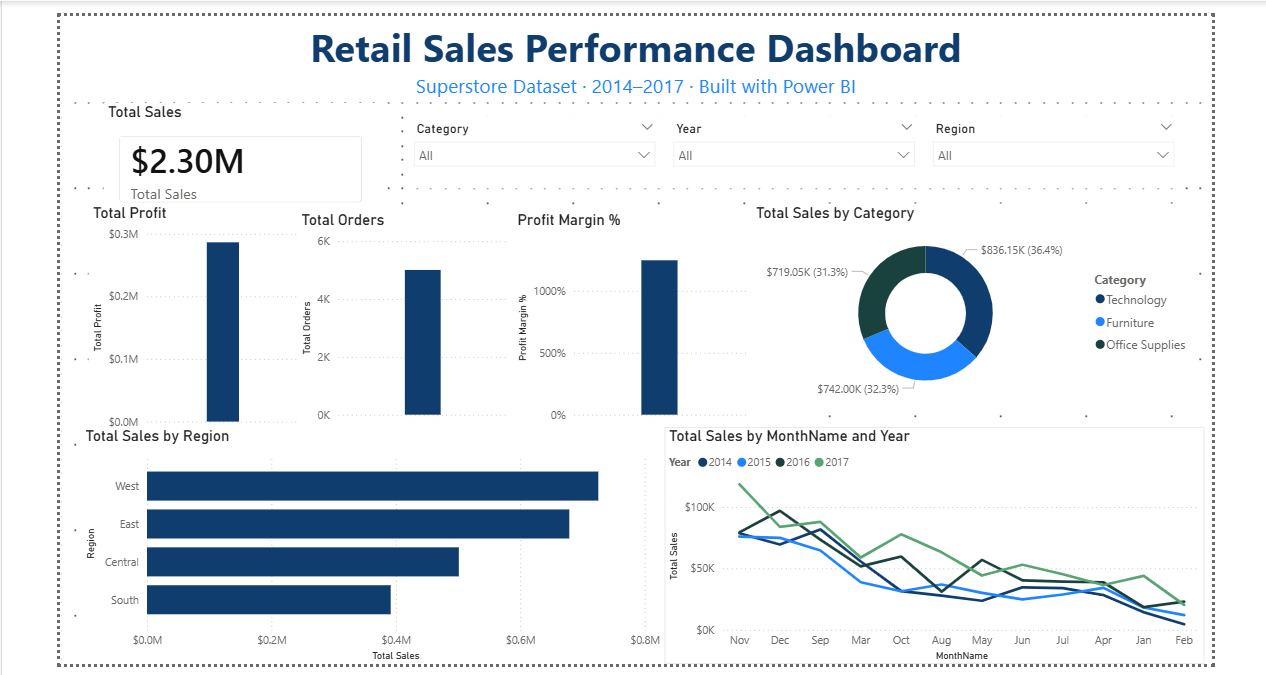

Layout of this report page (visuals, bound fields, positions):
{"tool":"powerbi","page":{"name":"Page 1","canvas":[1280,720],"ordinal":0},"visuals":[{"type":"cardVisual","title":"Total Sales","fields":{"Data":["KPI_Measures.Total Sales"]},"box":[48,96,304,128],"z":0},{"type":"clusteredColumnChart","fields":{"Y":["KPI_Measures.Total Profit"]},"box":[32,208,240,256],"z":1000},{"type":"clusteredColumnChart","fields":{"Y":["KPI_Measures.Total Orders"]},"box":[264,216,240,240],"z":2000},{"type":"clusteredColumnChart","fields":{"Y":["KPI_Measures.Profit Margin %"]},"box":[504,216,264,240],"z":3000},{"type":"clusteredBarChart","fields":{"Y":["KPI_Measures.Total Sales"],"Category":["superstore_clean.Region"]},"box":[24,456,648,264],"z":4000},{"type":"lineChart","fields":{"Category":["DateTable.MonthName"],"Series":["DateTable.Year"],"Y":["KPI_Measures.Total Sales"]},"box":[672,456,600,264],"z":5000},{"type":"donutChart","fields":{"Category":["superstore_clean.Category"],"Y":["KPI_Measures.Total Sales"]},"box":[768,208,496,224],"z":6000},{"type":"slicer","fields":{"Values":["DateTable.Year"]},"box":[672,112,288,80],"z":7000},{"type":"slicer","fields":{"Values":["superstore_clean.Category"]},"box":[384,112,288,80],"z":8000},{"type":"slicer","fields":{"Values":["superstore_clean.Region"]},"box":[960,112,288,80],"z":9000},{"type":"textbox","box":[0,0,1280,96],"z":10000}]}

Visuals, with their boxes on the page's 1280x720 design canvas (x1, y1, x2, y2). These are canvas units, not pixel positions in the 1266x675 screenshot, which may show the page scaled, cropped or inside an application window:
"Total Sales" cardVisual: [48,96,352,224]
clusteredColumnChart - KPI_Measures.Total Profit: [32,208,272,464]
clusteredColumnChart - KPI_Measures.Total Orders: [264,216,504,456]
clusteredColumnChart - KPI_Measures.Profit Margin %: [504,216,768,456]
clusteredBarChart - KPI_Measures.Total Sales x superstore_clean.Region: [24,456,672,720]
lineChart - DateTable.MonthName x DateTable.Year: [672,456,1272,720]
donutChart - superstore_clean.Category x KPI_Measures.Total Sales: [768,208,1264,432]
slicer - DateTable.Year: [672,112,960,192]
slicer - superstore_clean.Category: [384,112,672,192]
slicer - superstore_clean.Region: [960,112,1248,192]
textbox: [0,0,1280,96]
